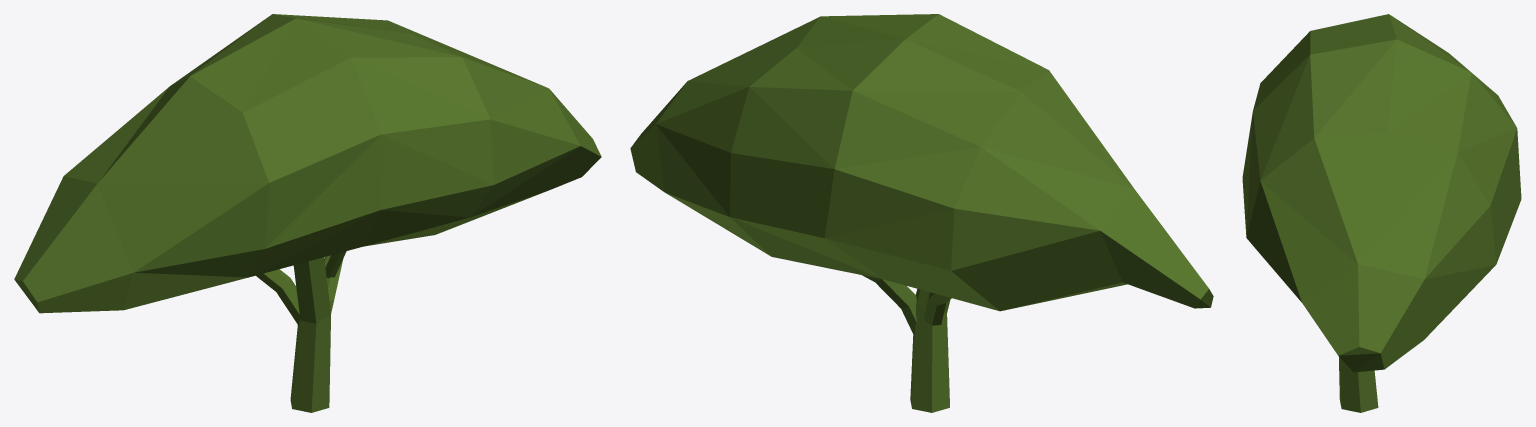
The model's file is Desert_plant_001.glb.
The picture shows the model from 3 angles, left to right: view 1: azimuth 30°, elevation 25°; view 2: azimuth 150°, elevation 25°; view 3: azimuth 270°, elevation 25°; orthographic projection. The views are drawn at different scales.
Parts seen in each view (by area): view 1: Desert_plant_001; view 2: Desert_plant_001; view 3: Desert_plant_001.
Boxes of the visible parts, x1=… form: Desert_plant_001: x1=14, y1=14, x2=601, y2=412; Desert_plant_001: x1=630, y1=14, x2=1213, y2=412; Desert_plant_001: x1=1242, y1=14, x2=1521, y2=412.
Size of the model in its own units: 2.07 by 1.3 by 0.8941.
Materials: 1 (1 with a texture image).
